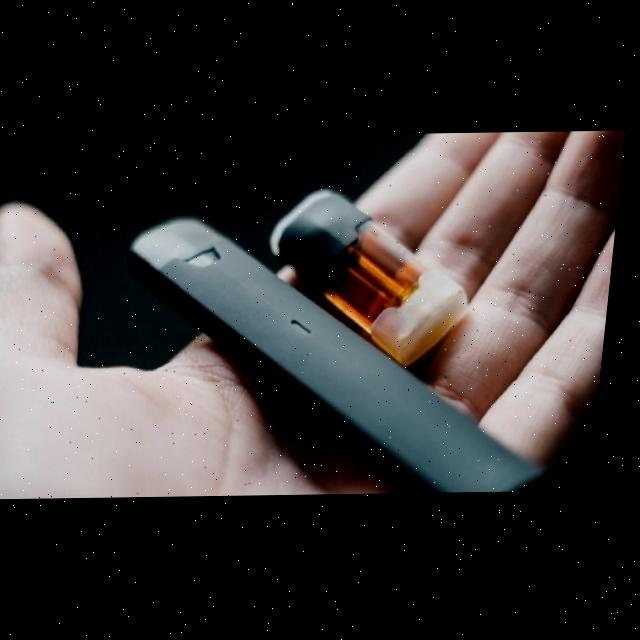vape: (111, 215, 580, 499)
